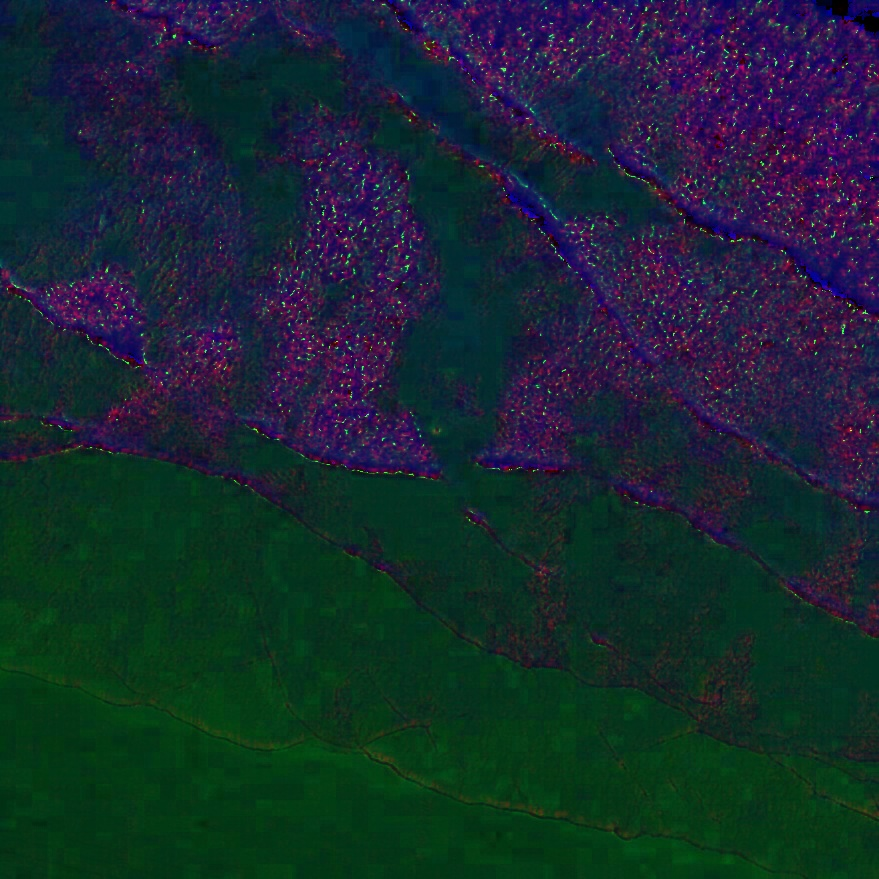rip_current: (316, 52, 559, 533)
